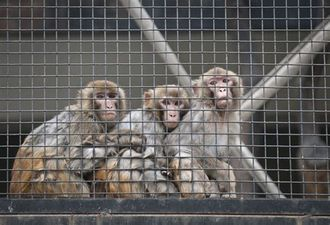monkey: (3, 62, 125, 215), (191, 47, 280, 185), (127, 47, 193, 188)
